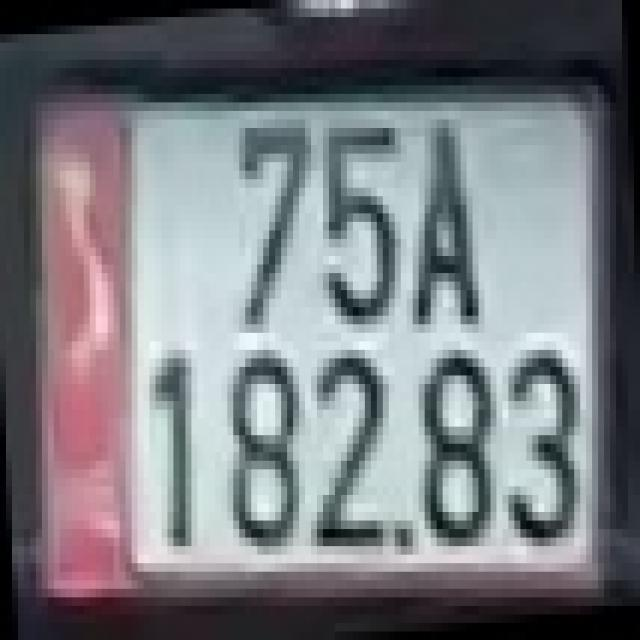1: (150, 349, 198, 546)
2: (311, 349, 389, 546)
3: (508, 341, 580, 546)
5: (318, 110, 400, 324)
7: (233, 111, 311, 333)
8: (418, 349, 496, 546), (227, 341, 299, 546)
A: (406, 111, 484, 333)
